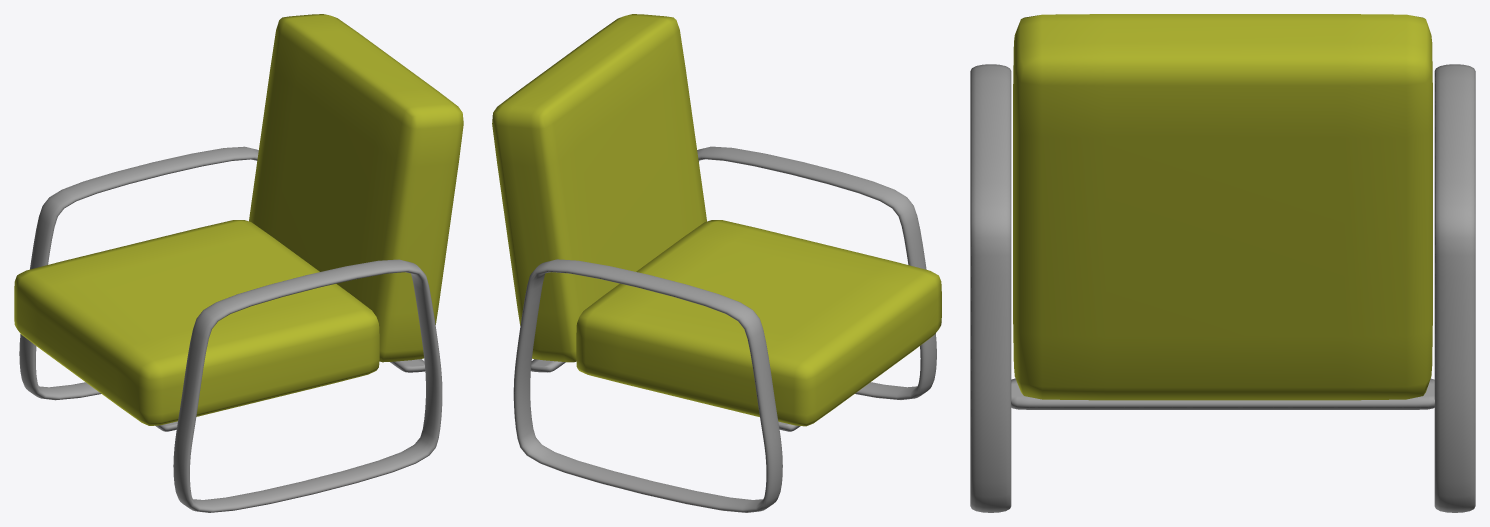
The model's file is Bergere02.fbx.
3 renders of one model, left to right at view 1: azimuth 30°, elevation 25°; view 2: azimuth 150°, elevation 25°; view 3: azimuth 270°, elevation 25°, orthographic. The views are drawn at different scales.
Parts seen in each view (by area): view 1: Bergere02; view 2: Bergere02; view 3: Bergere02.
Part boxes in pixels (bbox=[...]): Bergere02: bbox=[14, 14, 463, 512]; Bergere02: bbox=[492, 14, 941, 512]; Bergere02: bbox=[970, 14, 1475, 512].
Bounding box in the file's own units: 0.5999 × 0.5407 × 0.6111.
